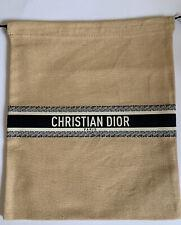DIOR: (44, 102, 140, 142)
